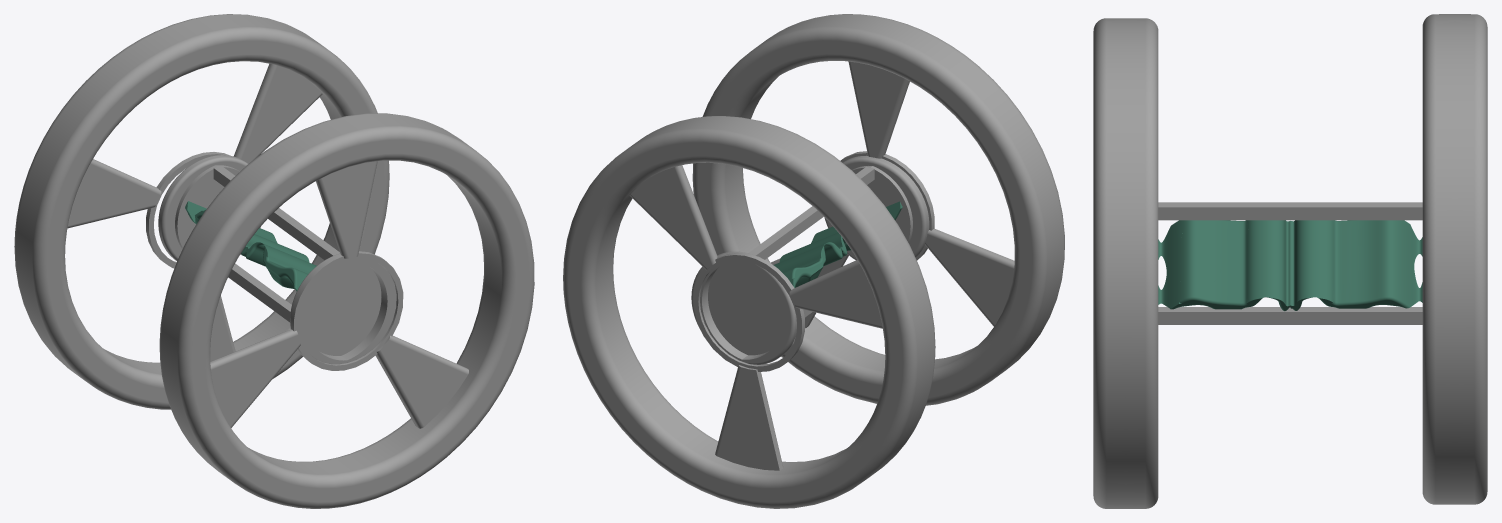
The model's file is Warp_Assembly_v2.fbx.
3 views of the same model, side by side, from view 1: azimuth 30°, elevation 25°; view 2: azimuth 150°, elevation 25°; view 3: azimuth 270°, elevation 25° (orthographic). The views are drawn at different scales.
Visible parts, largest first — view 1: Body1 (×5), Body2, Body4, Body11; view 2: Body1 (×5), Body2, Body11; view 3: Body1 (×6), Body4 (×2), Body7 (×2), Body11 (×2).
Boxes of the visible parts, x1,y1,x2,y2 form: Body1 (×5): (14, 14, 534, 508); Body2: (158, 155, 260, 260); Body4: (263, 254, 303, 291); Body11: (252, 242, 316, 273); Body1 (×5): (563, 14, 1064, 508); Body2: (691, 251, 796, 364); Body11: (773, 242, 836, 272); Body1 (×6): (1093, 14, 1487, 508); Body4 (×2): (1158, 220, 1422, 309); Body7 (×2): (1179, 220, 1401, 303); Body11 (×2): (1246, 220, 1334, 303).
Size of the model in its own units: 347 by 340 by 273.
